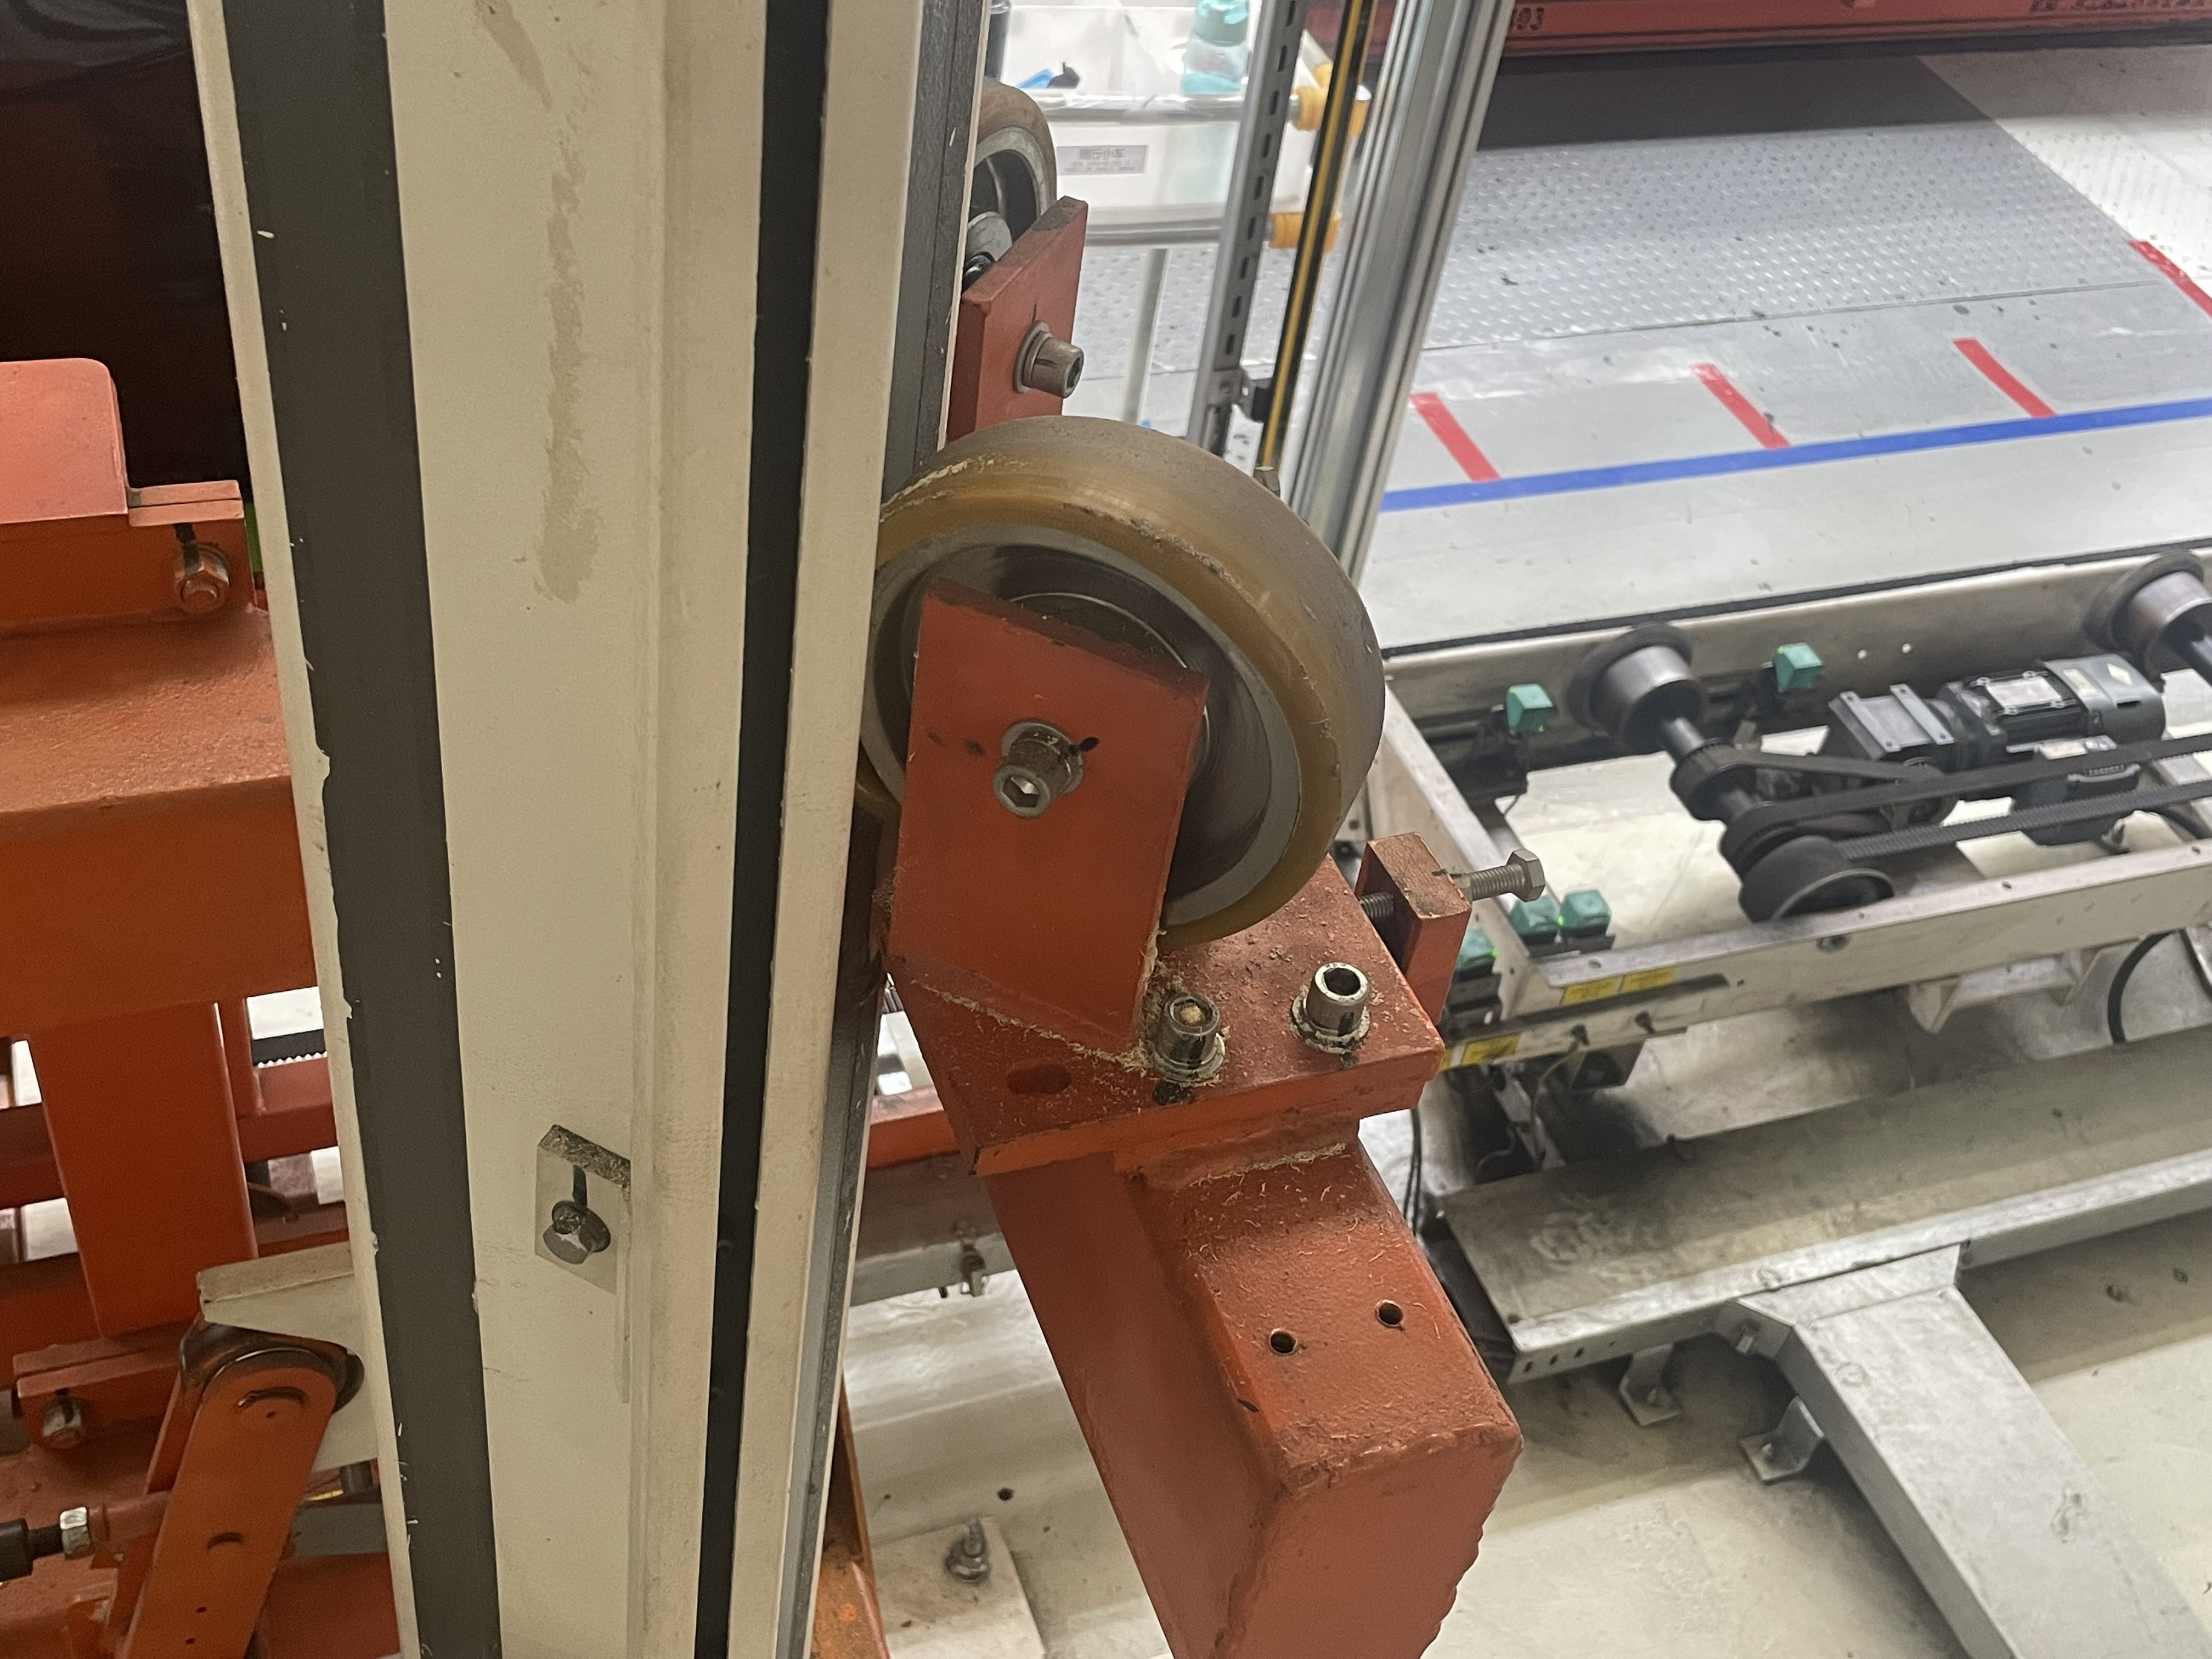bad_wheel: (1061, 992, 1251, 1105), (820, 676, 948, 843)
good_wheel: (948, 59, 1125, 359)
